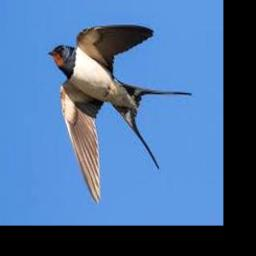Swallow: (48, 24, 192, 202)
